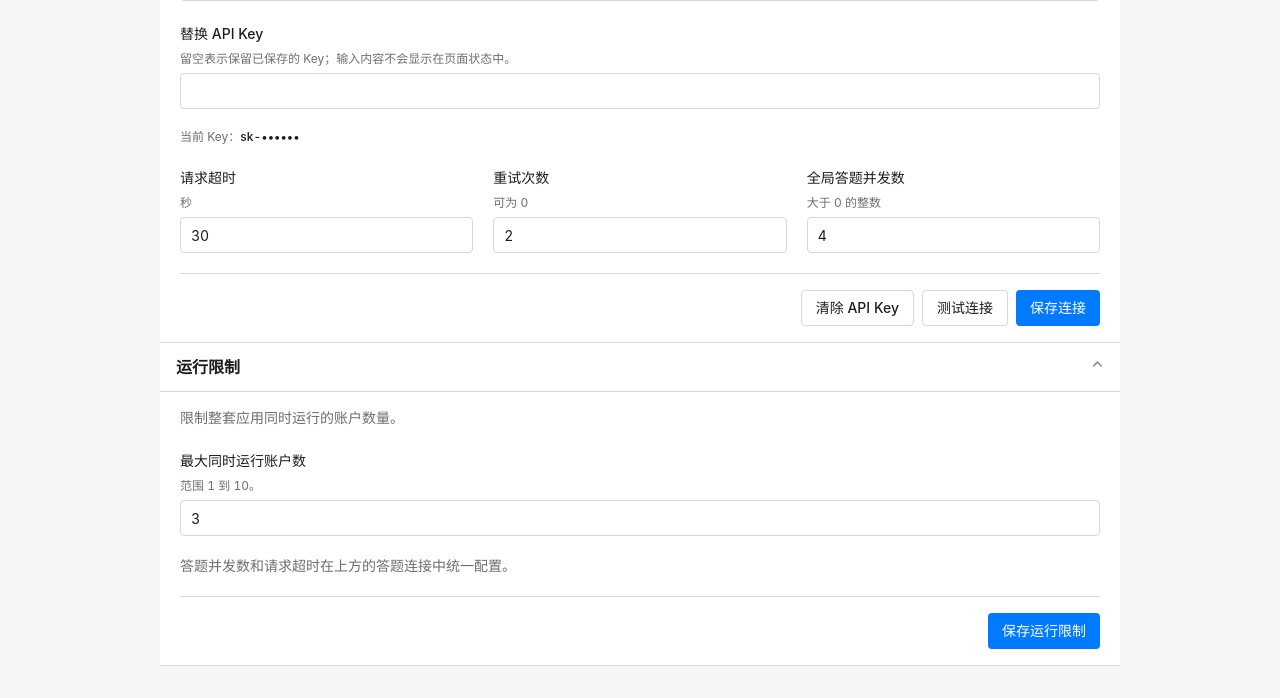
it: saves runtime limits independently from the answer connection
(page scrolled)
Replace the text in the number field labelled "最大同时运行账户数" with "5" at [640, 518], box [180,500,1100,536]
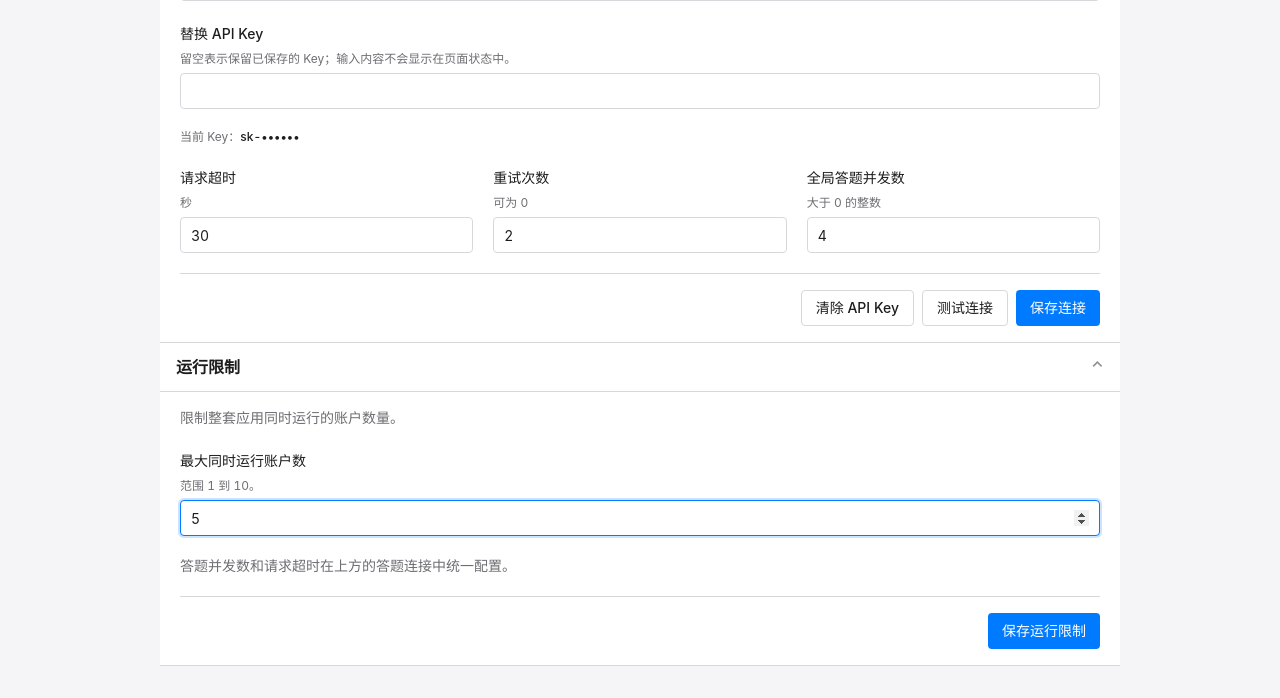
Click the button "保存运行限制" at [1044, 631], box [988,613,1100,649]
(page scrolled)
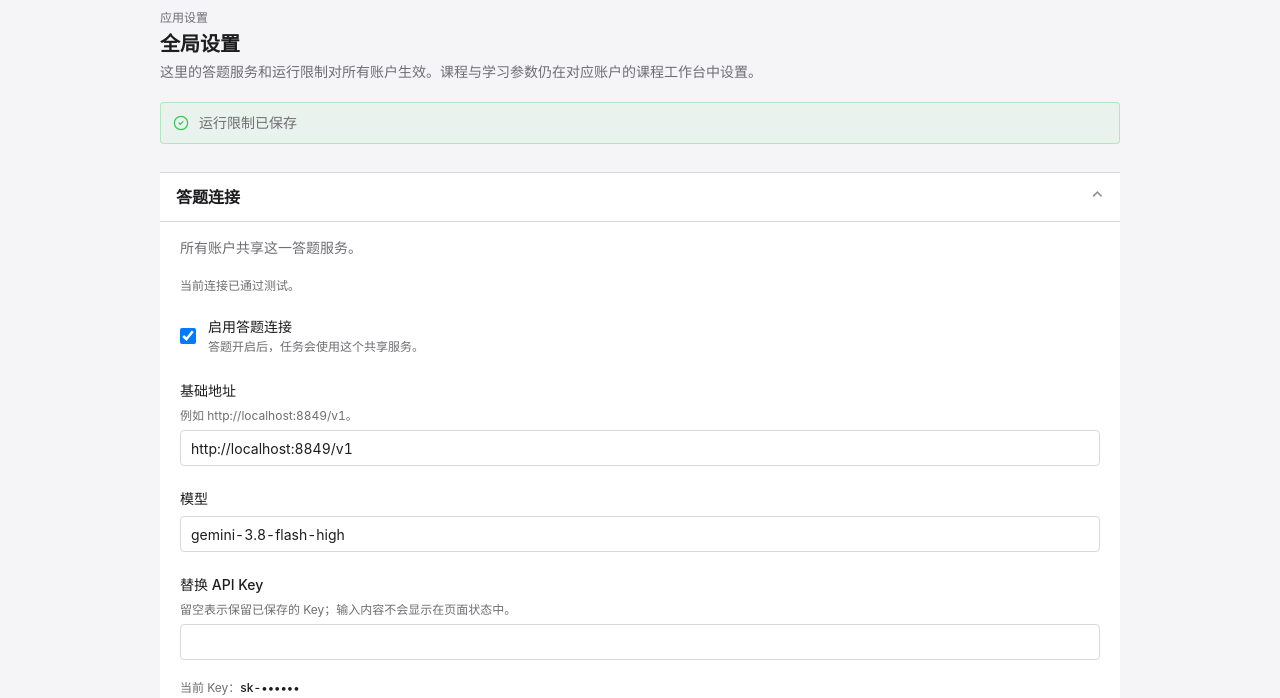
Now the text "运行限制已保存" is shown, box [199,114,297,131]
